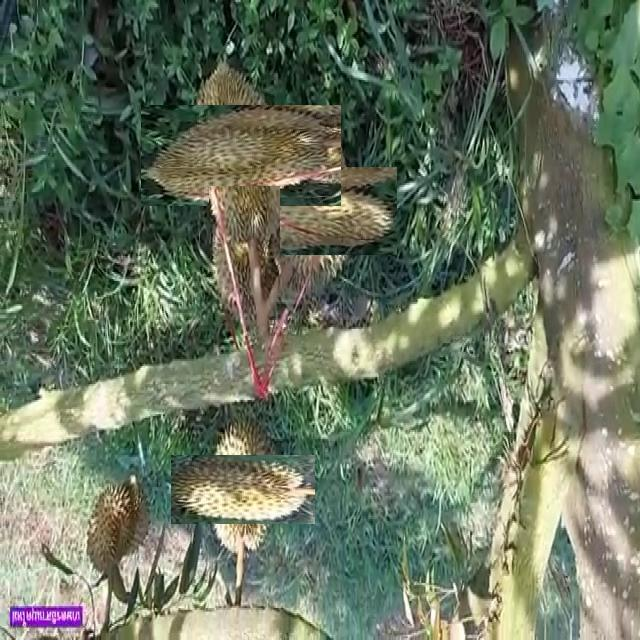durian: (165, 80, 317, 232), (246, 145, 376, 276), (189, 436, 297, 544), (209, 186, 280, 332), (85, 478, 153, 577)
